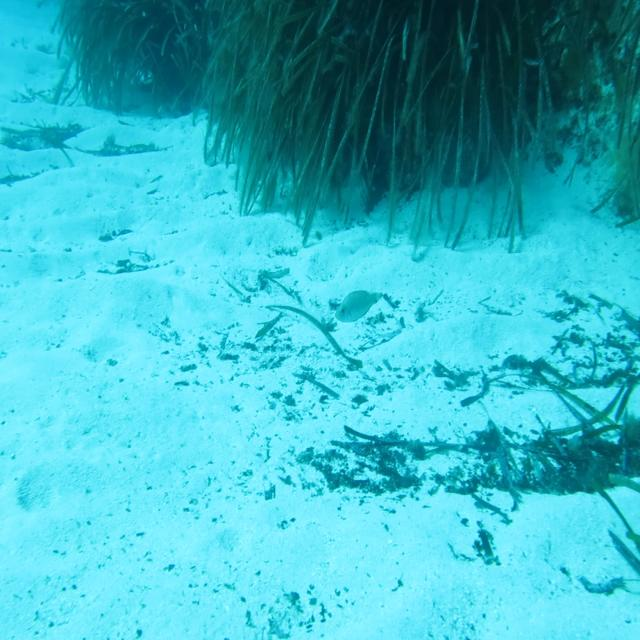BN: (333, 286, 387, 330)
vegetation: (46, 0, 639, 233), (466, 408, 640, 515)
